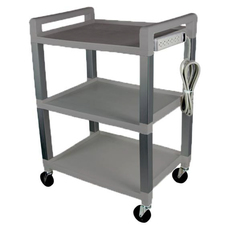Carts: (29, 6, 203, 224)
